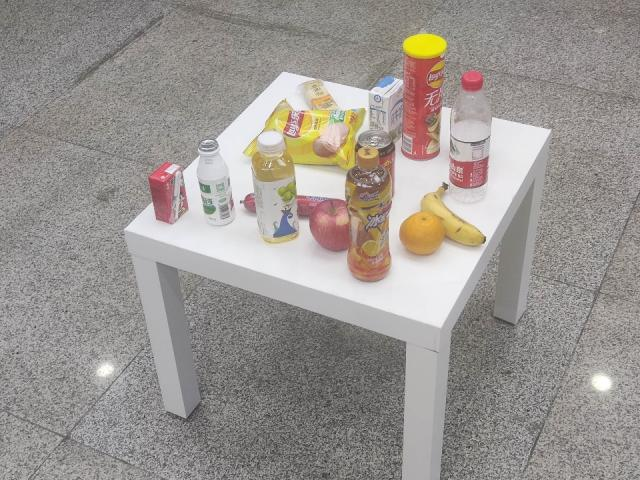Canned_drinks: (358, 130, 402, 196)
bottle: (447, 68, 497, 204), (252, 130, 301, 243), (196, 139, 237, 225)
cylinder: (399, 23, 445, 166)
drink_box: (360, 72, 408, 144), (144, 156, 190, 224)
